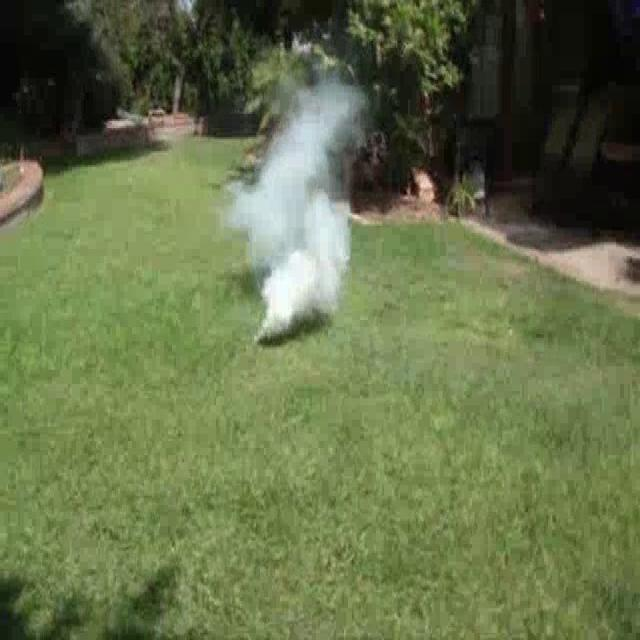Smoke: (223, 54, 370, 272), (252, 199, 350, 349)
